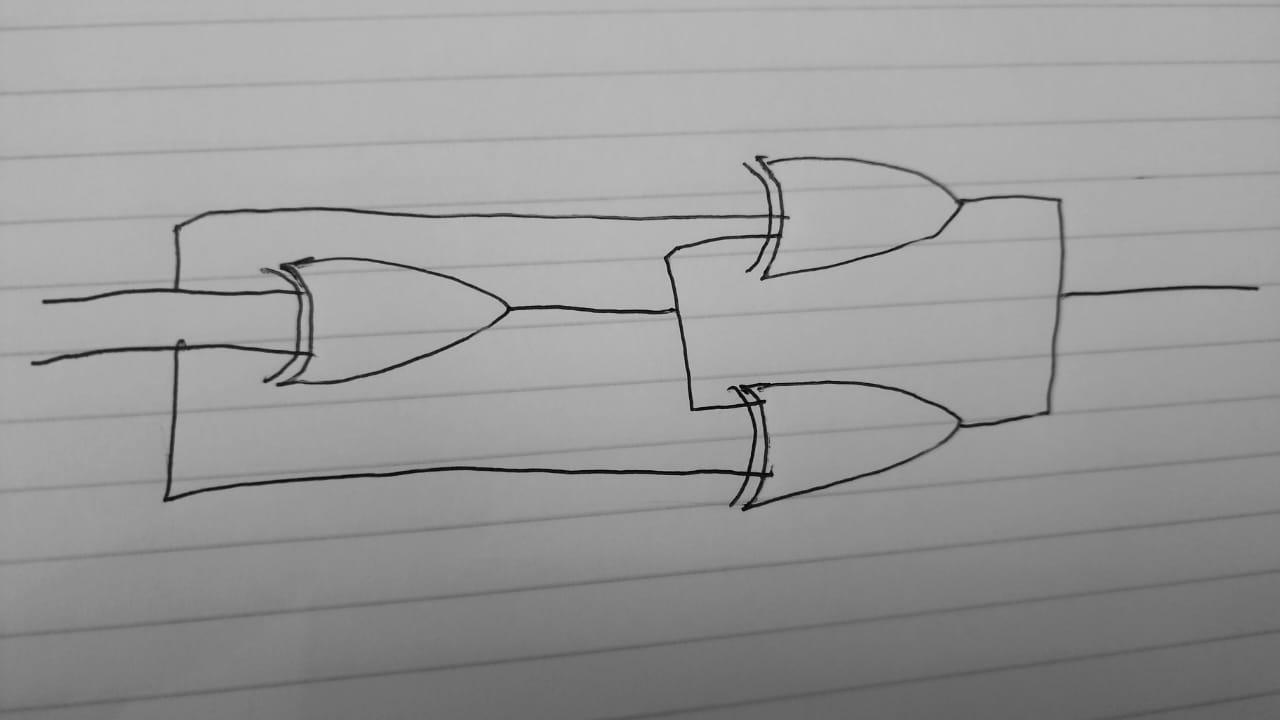XOR: (246, 239, 521, 412), (727, 361, 1009, 510), (721, 131, 998, 276)
